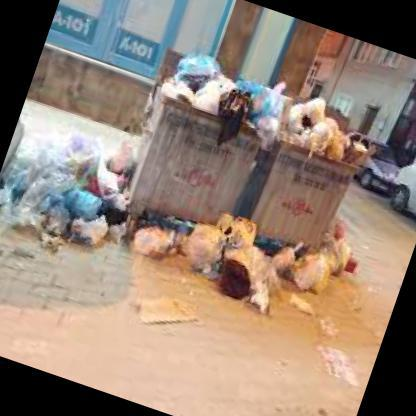Garbage: (0, 125, 138, 255), (158, 52, 294, 131), (206, 218, 294, 331), (263, 84, 376, 167), (114, 212, 226, 284), (288, 234, 360, 302)
